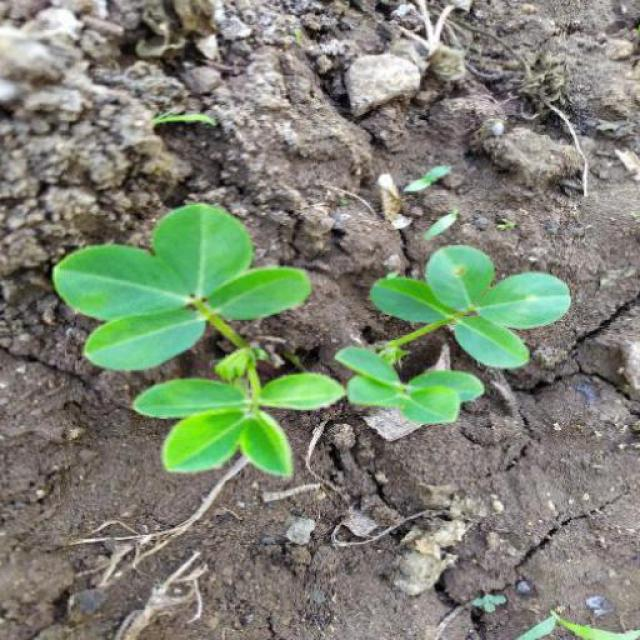weed: (36, 209, 562, 490)
